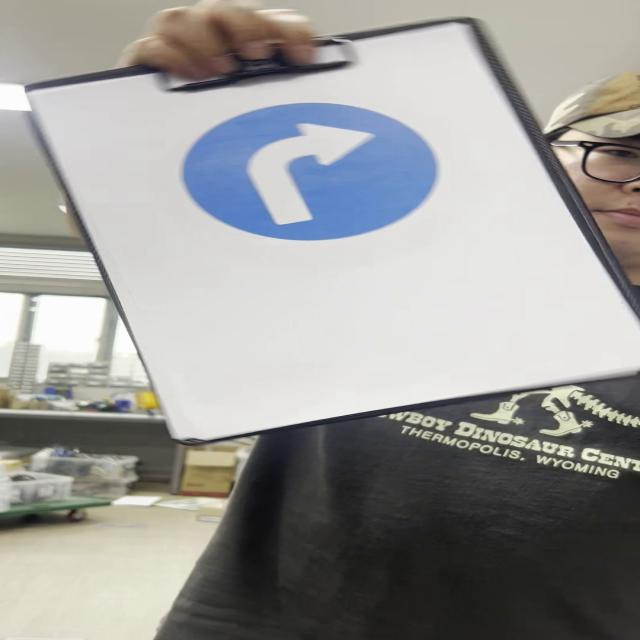right: (174, 103, 437, 241)
